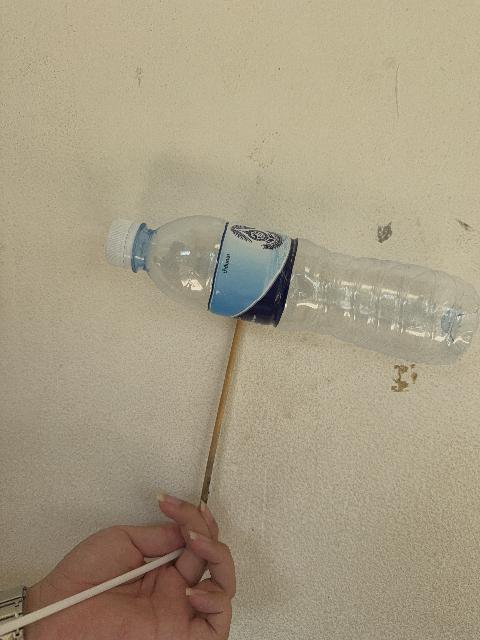bottle: (106, 216, 479, 364)
